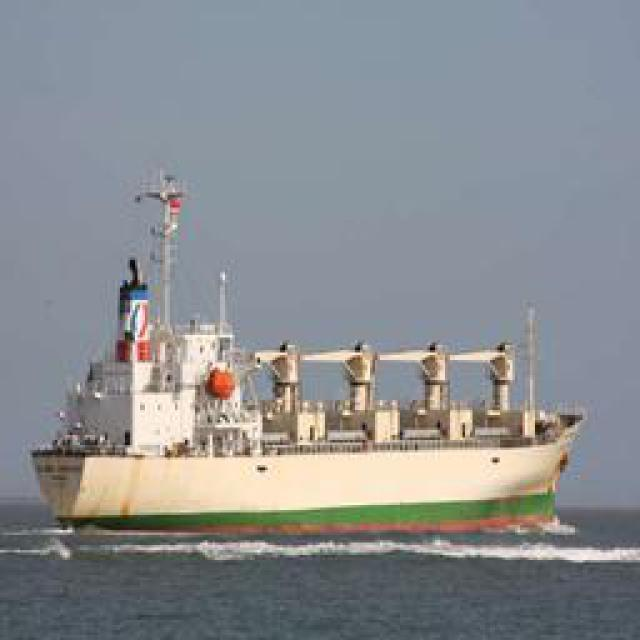Ship: (25, 191, 588, 544)
